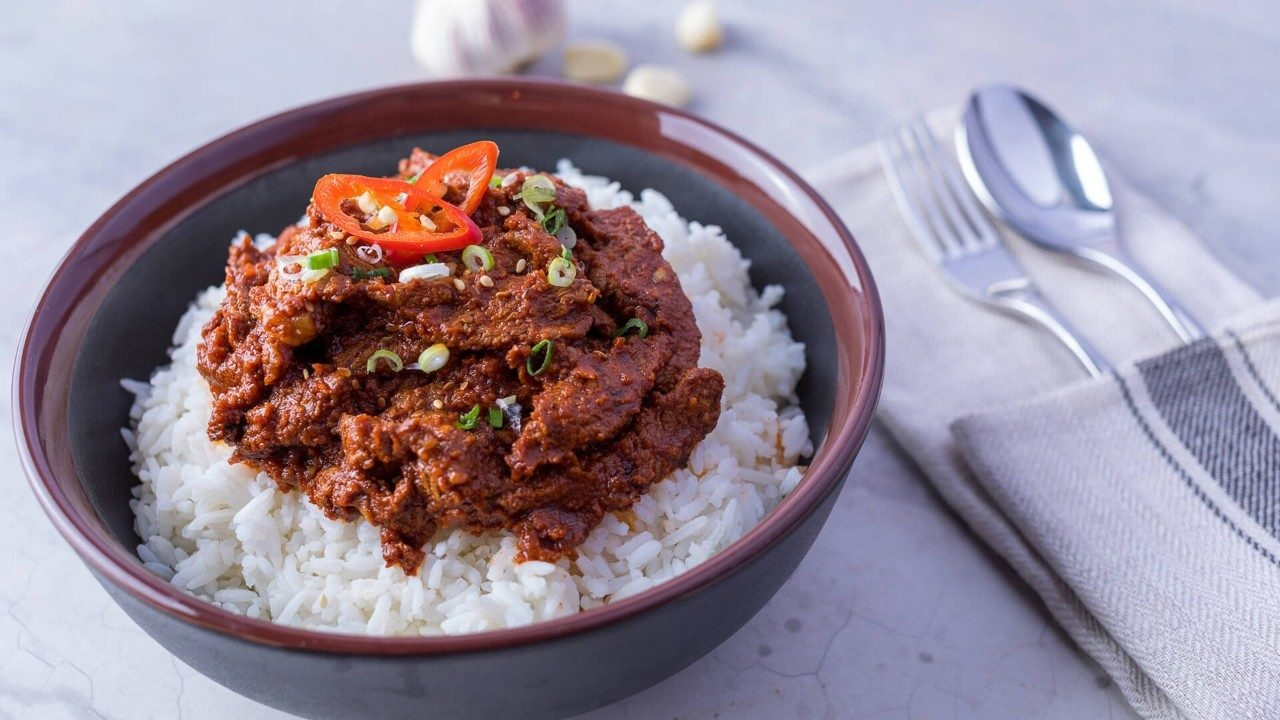rendang: (205, 177, 700, 505)
